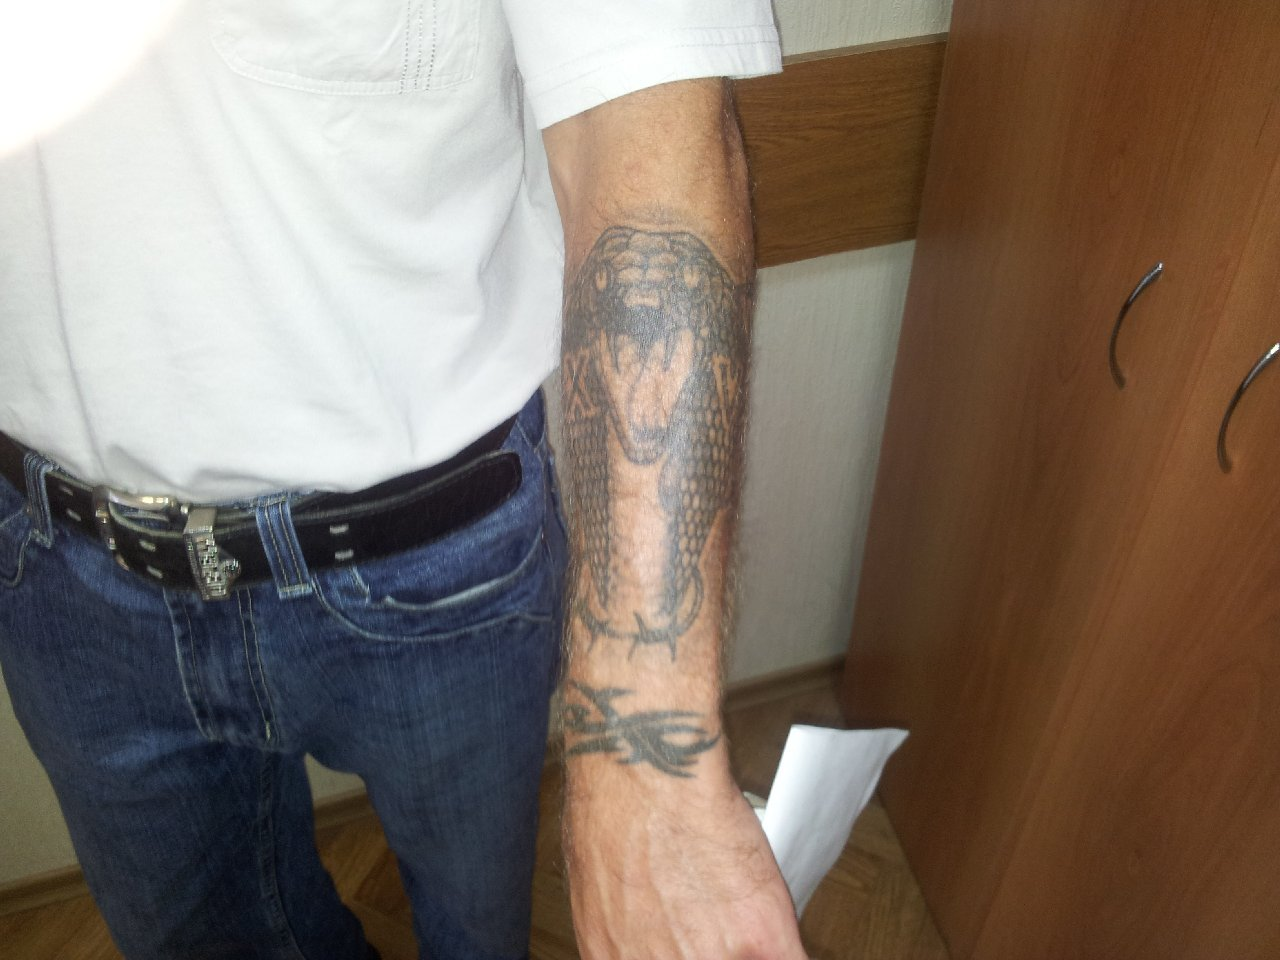tatu7_zmeya: (557, 223, 753, 688)
